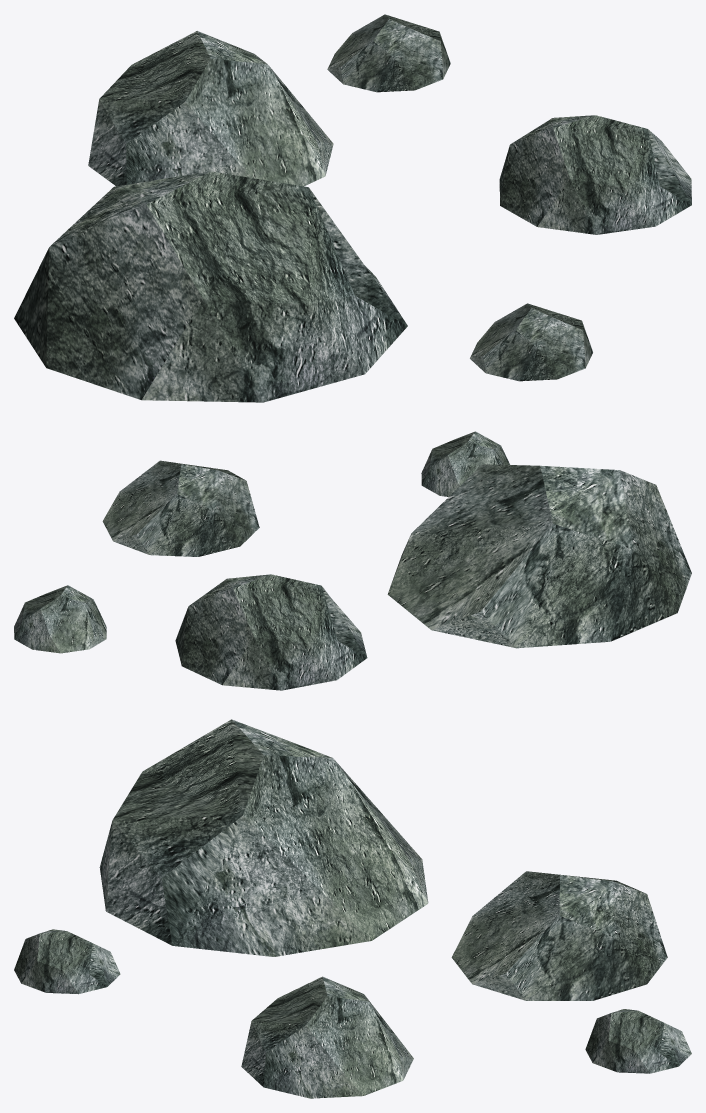
File: peebles_B.obj
3 renders of one model, top to bottom at view 1: azimuth 30°, elevation 25°; view 2: azimuth 150°, elevation 25°; view 3: azimuth 270°, elevation 25°, orthographic. The views are drawn at different scales.
Parts seen in each view (by area): view 1: Icosphere, Icosphere.003, Icosphere.001, Icosphere.004, Icosphere.002; view 2: Icosphere, Icosphere.003, Icosphere.001, Icosphere.004, Icosphere.002; view 3: Icosphere, Icosphere.003, Icosphere.001, Icosphere.002, Icosphere.004.
Part boxes in pixels (x1,y1,x2,y2): Icosphere: (14,171,407,402); Icosphere.003: (88,31,333,186); Icosphere.001: (499,115,691,234); Icosphere.004: (327,14,450,92); Icosphere.002: (470,303,592,381); Icosphere: (387,464,691,648); Icosphere.003: (175,574,367,690); Icosphere.001: (102,460,259,556); Icosphere.004: (14,585,106,653); Icosphere.002: (421,431,509,496); Icosphere: (99,719,428,956); Icosphere.003: (451,871,667,1000); Icosphere.001: (241,976,413,1098); Icosphere.002: (14,929,120,994); Icosphere.004: (585,1009,691,1073).
Size of the model in its own units: 2.15 by 0.4608 by 2.16.
Materials: 5 (5 with a texture image).
